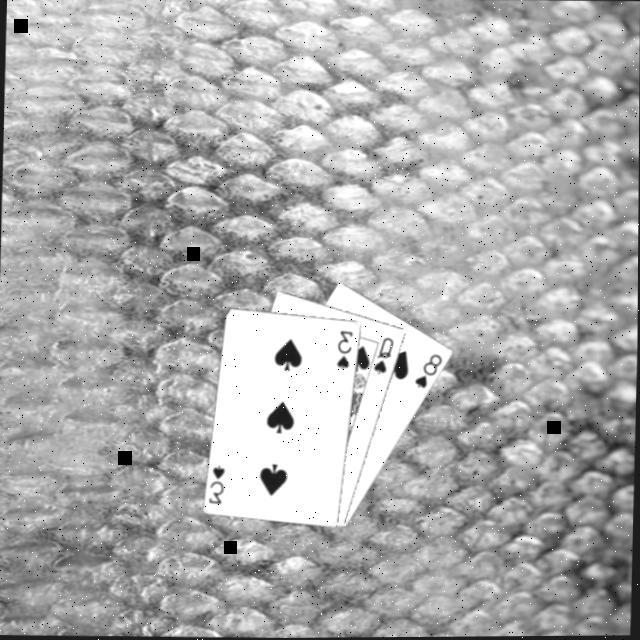3S: (336, 328, 358, 374), (206, 463, 228, 508)
8S: (412, 352, 447, 394)
QS: (372, 335, 398, 379)
